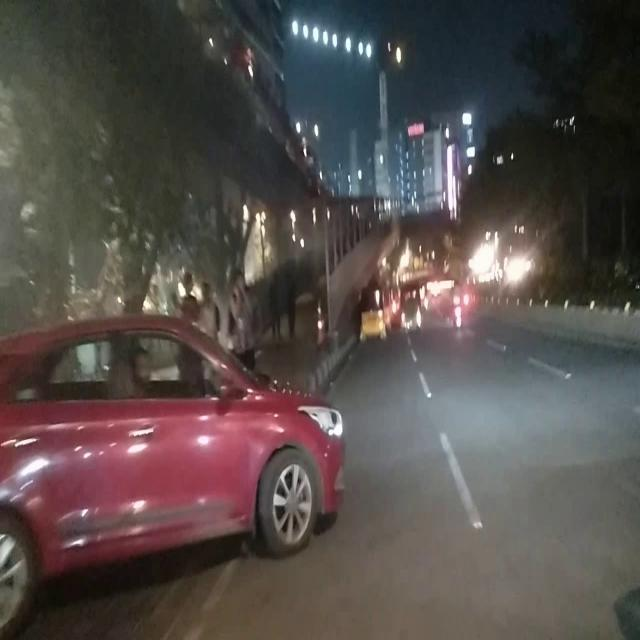auto: (356, 279, 390, 346)
car: (0, 311, 348, 639)
road: (0, 512, 640, 638), (346, 324, 640, 510)
